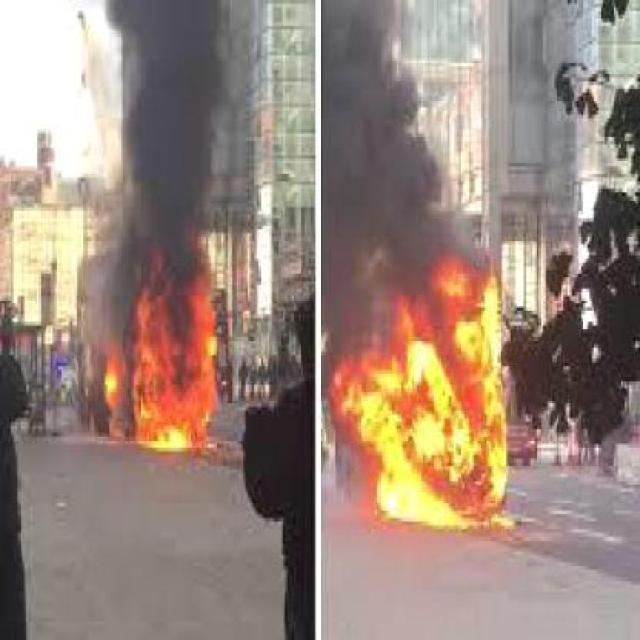Fire: (330, 263, 528, 525), (82, 256, 244, 467)
Smoke: (326, 0, 484, 255), (103, 0, 257, 255)
